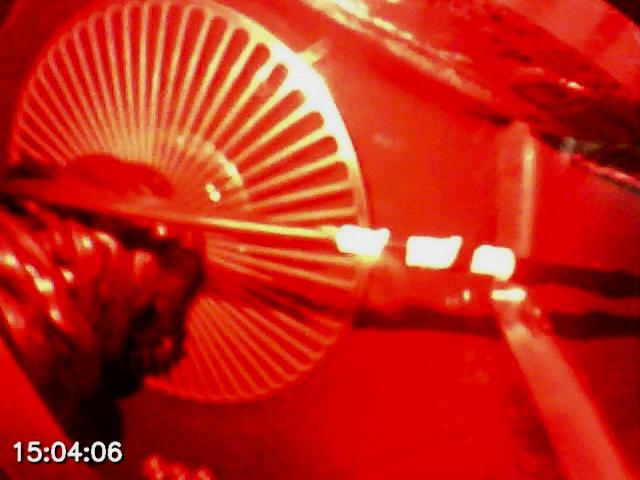white-dots: (335, 223, 515, 283)
